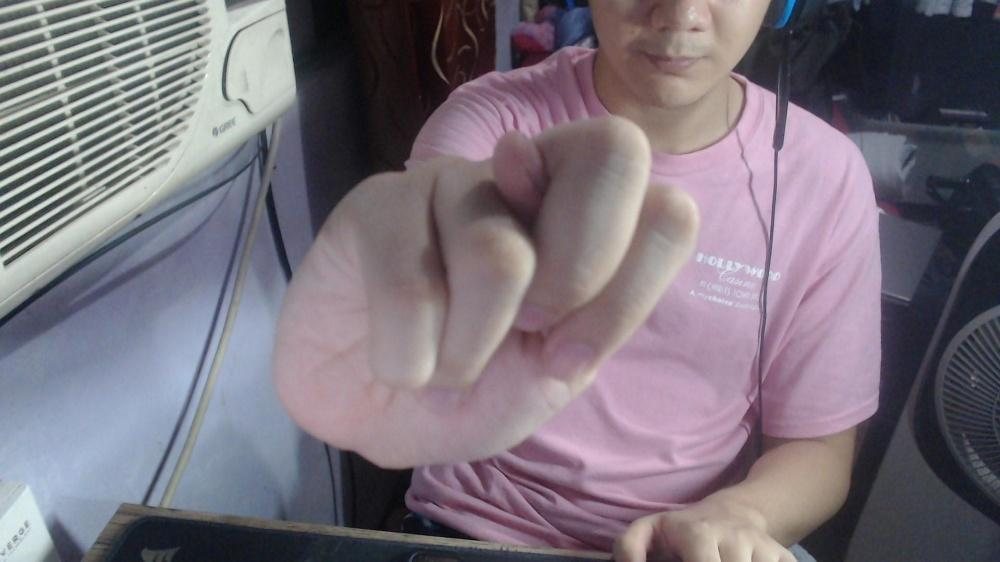n: (269, 110, 706, 475)
